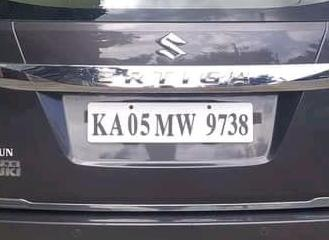0: (126, 111, 139, 138)
3: (229, 113, 238, 138)
5: (139, 111, 151, 139)
7: (217, 110, 229, 139)
8: (239, 112, 250, 136)
9: (204, 111, 217, 138)
A: (107, 110, 124, 139)
K: (92, 110, 108, 139)
M: (154, 113, 174, 139)
W: (174, 111, 197, 138)
